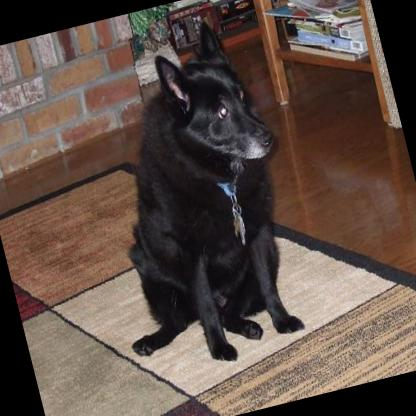schipperke: (57, 5, 322, 381)
